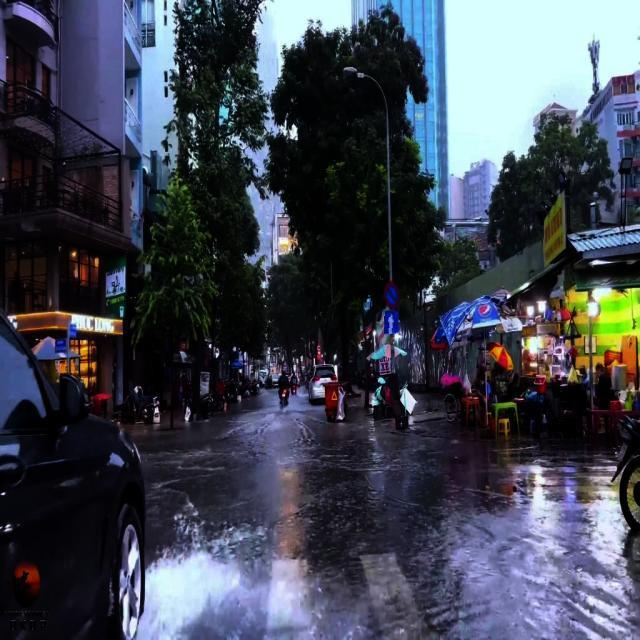131a-cam-do-xe: (382, 282, 400, 308)
407a-duong-mot-chieu: (384, 310, 398, 334)
